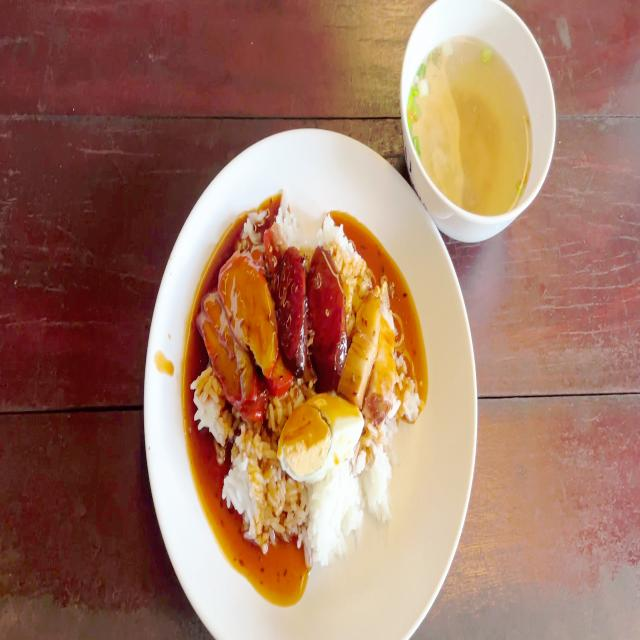boiled_egg: (280, 393, 360, 481)
chainese_sausage: (312, 248, 344, 393), (276, 245, 309, 364)
crispy_pork: (342, 290, 394, 411)
red_pork: (197, 252, 276, 412)
red_pork_and_crispy_pork: (194, 202, 420, 567)
rice: (309, 474, 363, 556), (230, 441, 274, 534), (369, 444, 390, 521)
